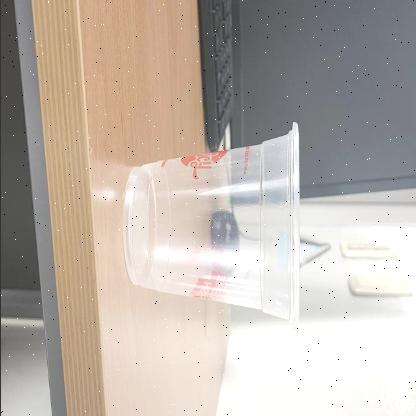Others: (123, 121, 299, 332)
